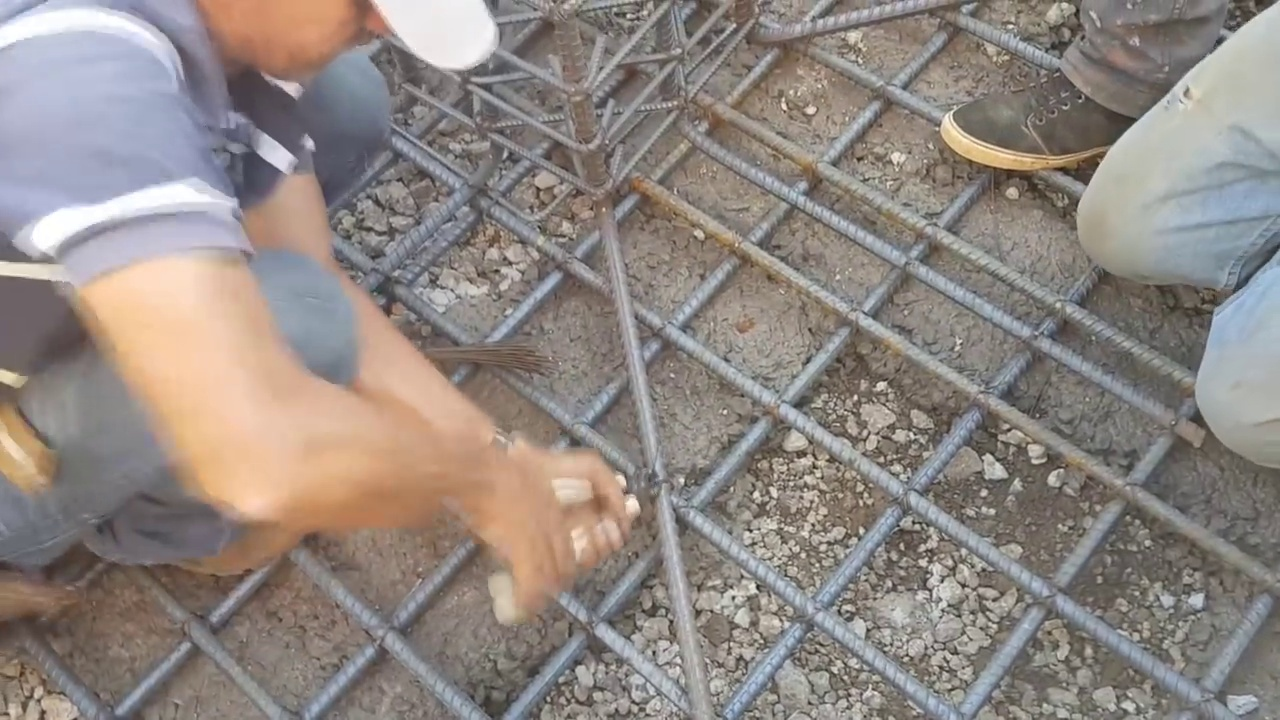helmet-off: (177, 0, 499, 101)
person: (0, 0, 655, 620), (1068, 1, 1280, 473)
